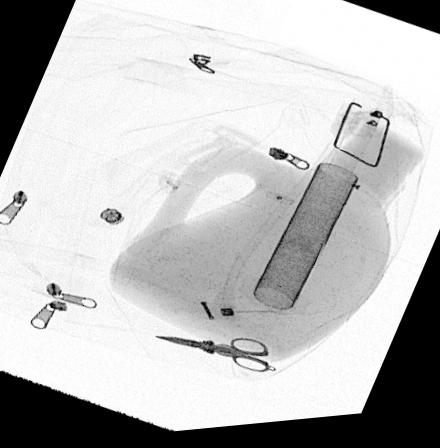Scissors: (151, 339, 276, 379)
